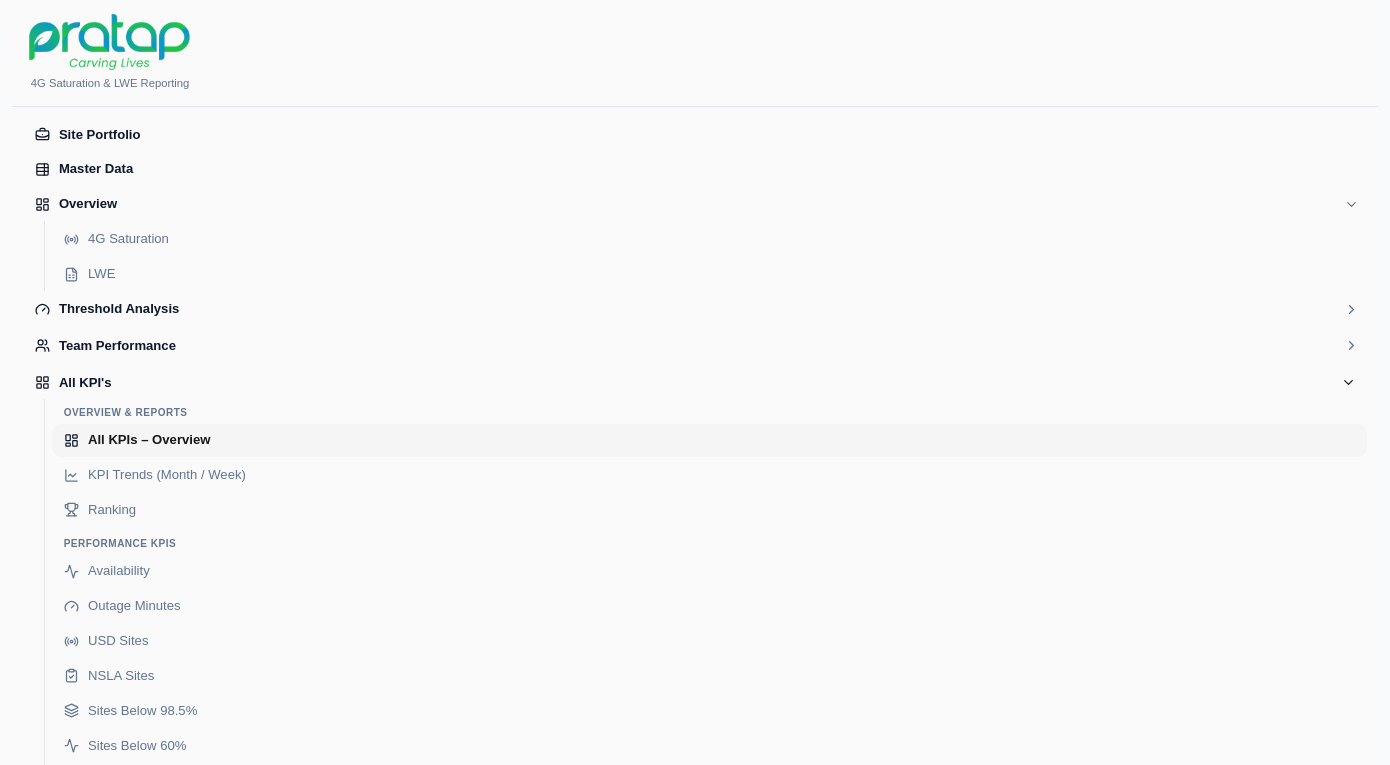
Test case: All KPI's › opens a KPI view from the menu with this period against the previous and the units ranked by it
The image size is (1390, 765).
Click the link "Outage Minutes". click: [122, 606]
box: [64, 598, 180, 614]
(page scrolled)
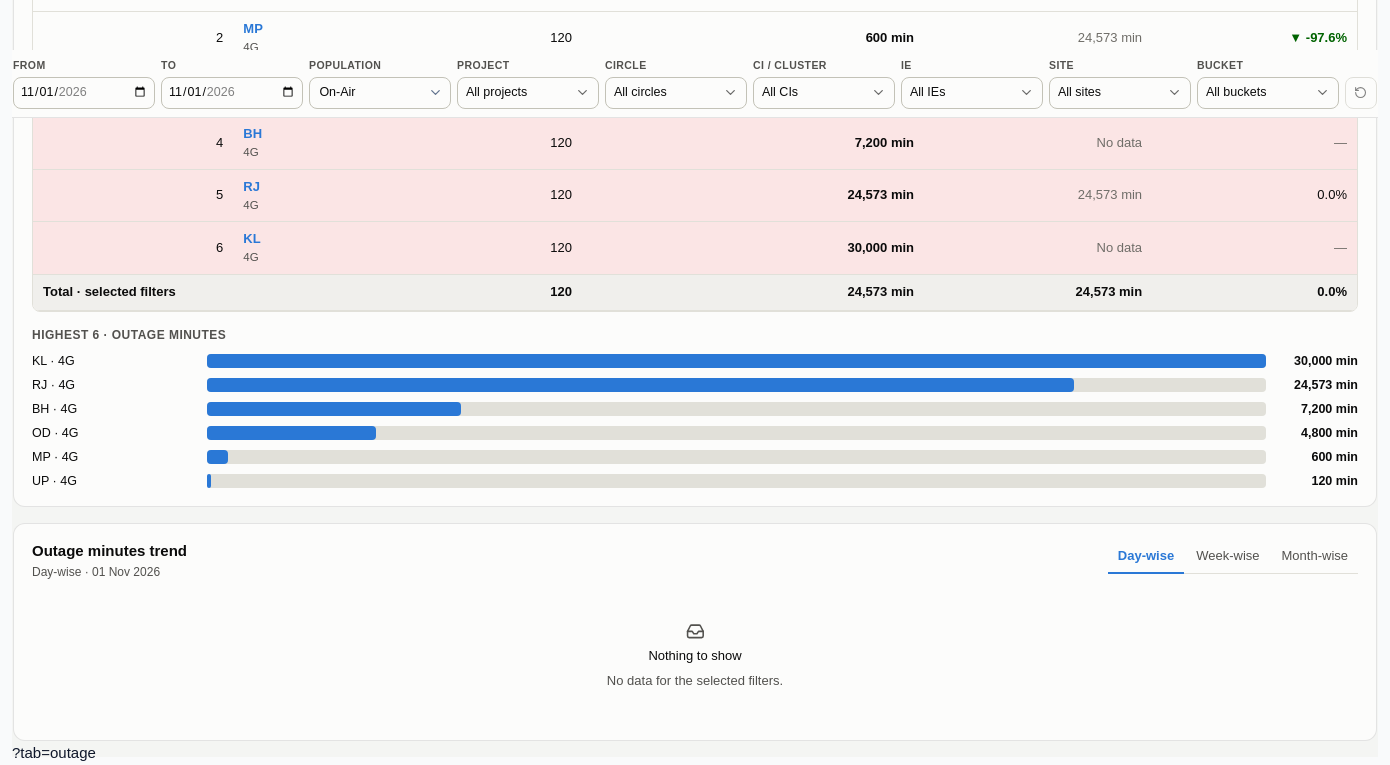
Expected: the text with test id "location" shows "tab=outage", [12, 744, 96, 761]
Expected: the picture named "Outage minutes: weakest" is shown, [32, 352, 1358, 490]
